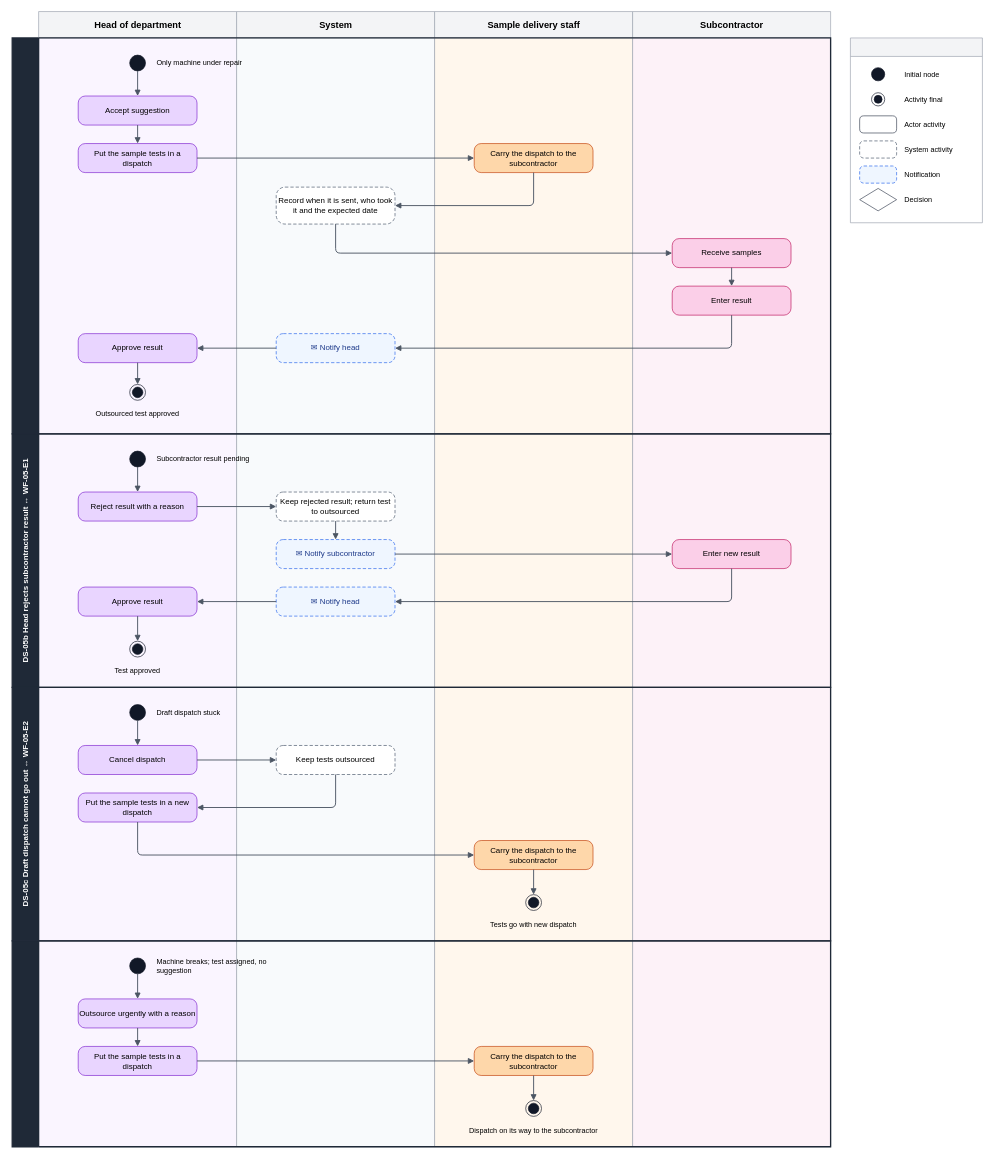
Some shapes in this 994 by 1159 pixel diagram are drawn without their labels. The shapes that lost their labels are listed below. From the top down, each one's box as (x1, y1, x2, y2) in pixels, then its label:
(850, 37, 982, 223): Legend
(11, 37, 831, 434): DS-05a Main: subcontractor result approved ↔ WF-05 Outsourced testing, main path
(11, 940, 831, 1147): DS-05d Head outsources urgently ↔ WF-05-A3
